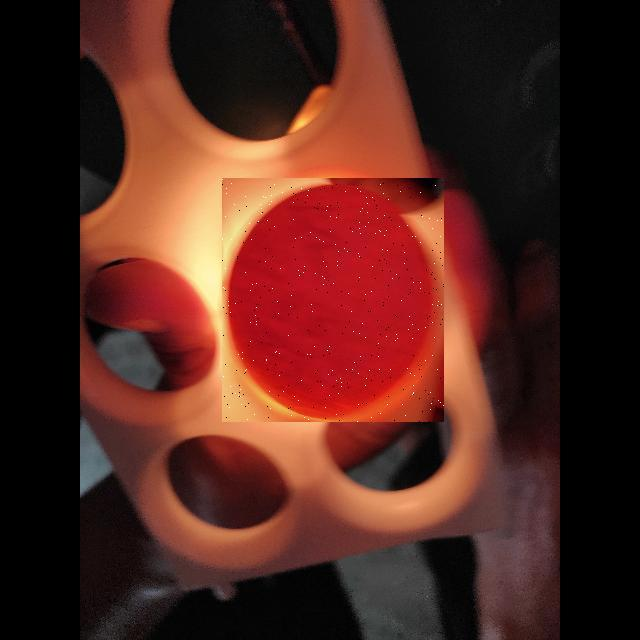Infertile: (222, 178, 444, 422)
